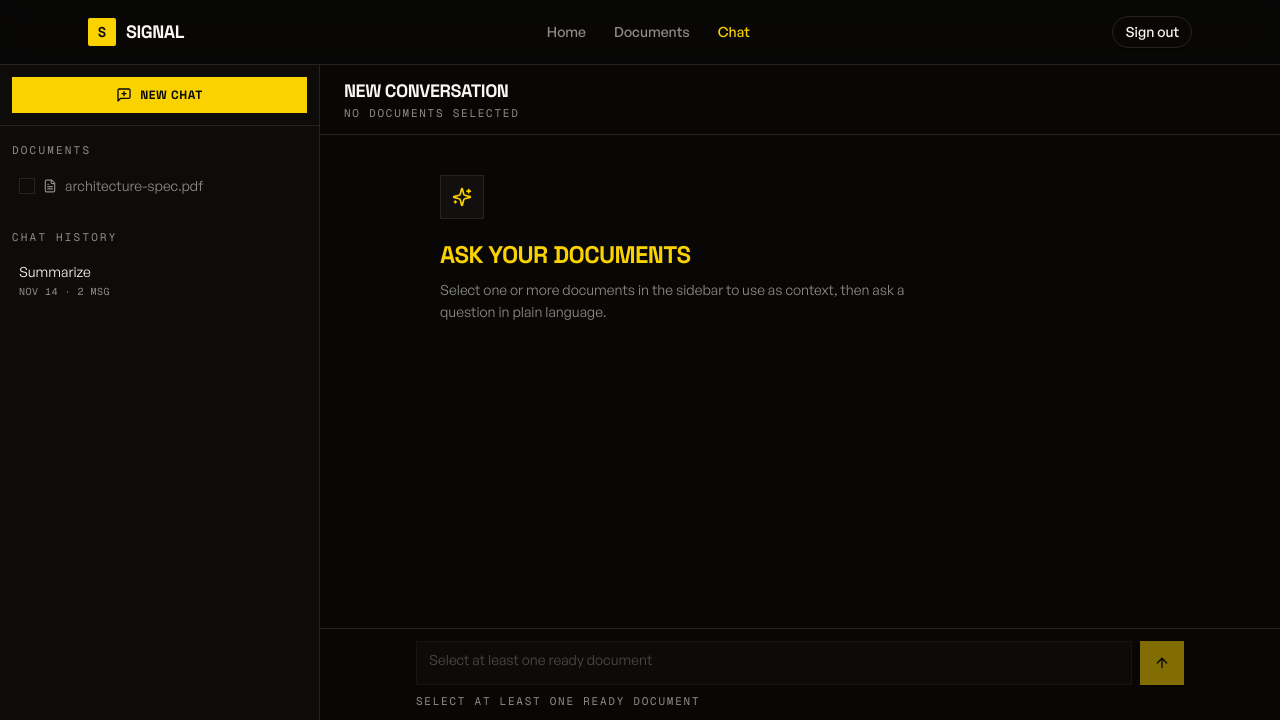
Test case: chat workspace › reopens a past conversation and restores its history
The image size is (1280, 720).
Click the button with test id "chat.session_item.5" at (55,272), box x1=8 y1=253 x2=311 y2=308
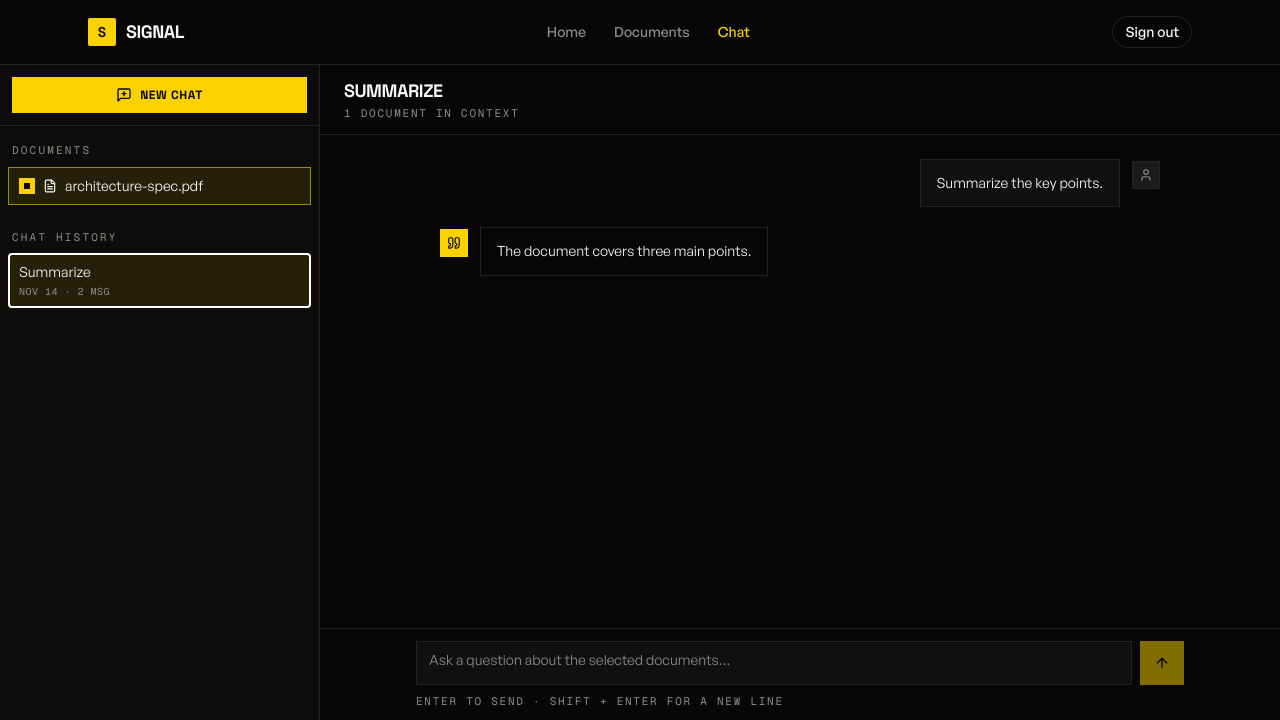
Expected: the text "The document covers three main points." is shown, x1=497 y1=240 x2=751 y2=263
Expected: the text "Summarize the key points." is shown, x1=936 y1=172 x2=1103 y2=194
